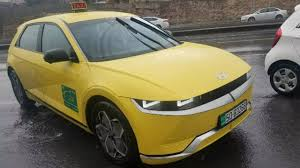Honda Ioniq: (6, 8, 255, 164)
